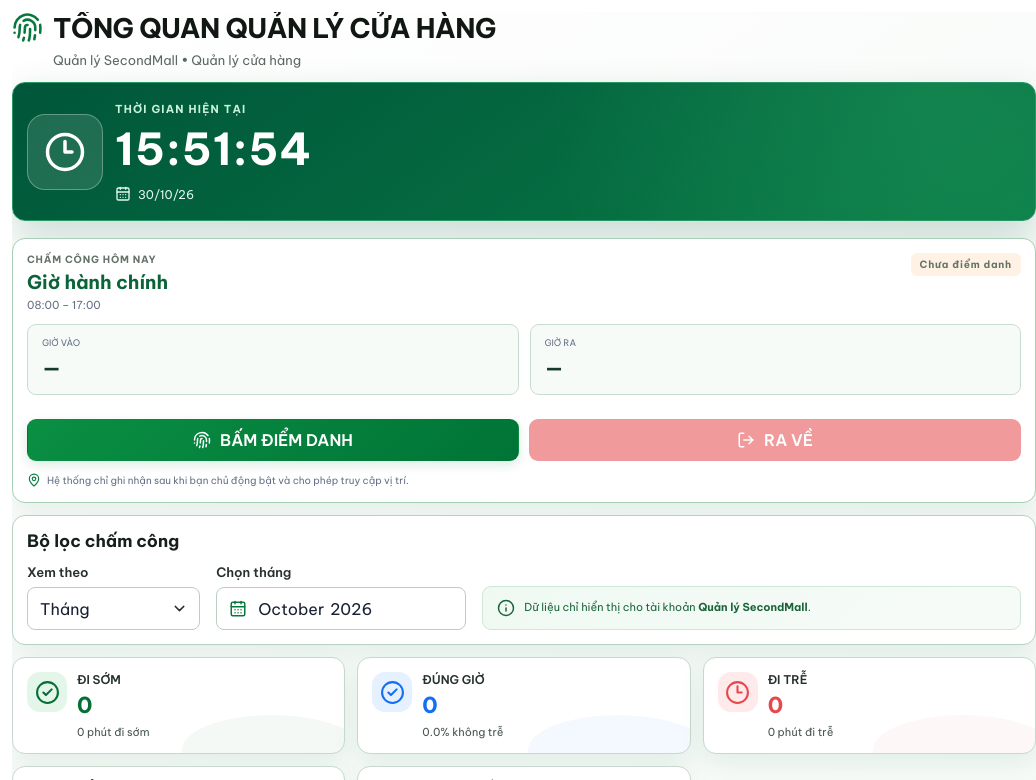
Test: operational-role attendance overview › does not check in when location permission is denied
Click the button "BẤM ĐIỂM DANH" at (273, 440), box [27,419,519,461]
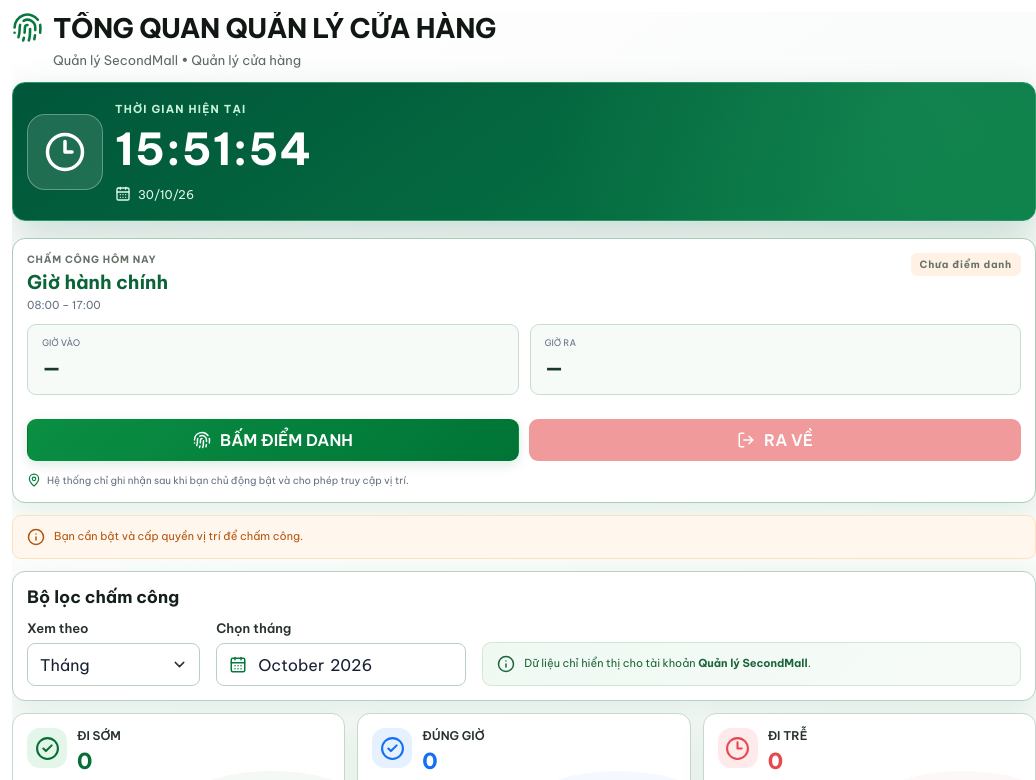
Expected: the message shows "bật và cấp quyền vị trí", [54,529,303,543]
